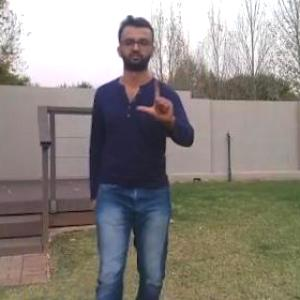land_hand: (136, 73, 181, 126)
